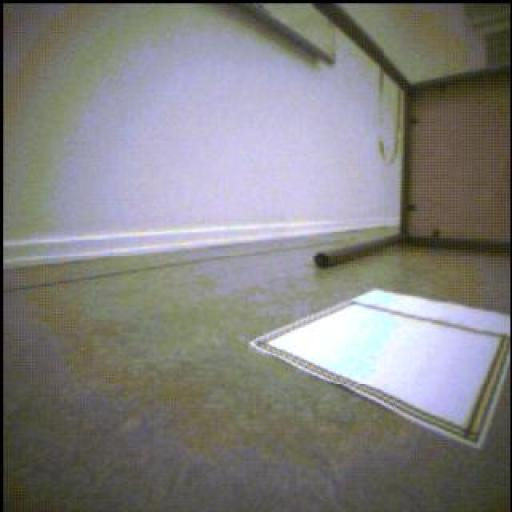Pad: (257, 284, 512, 452)
